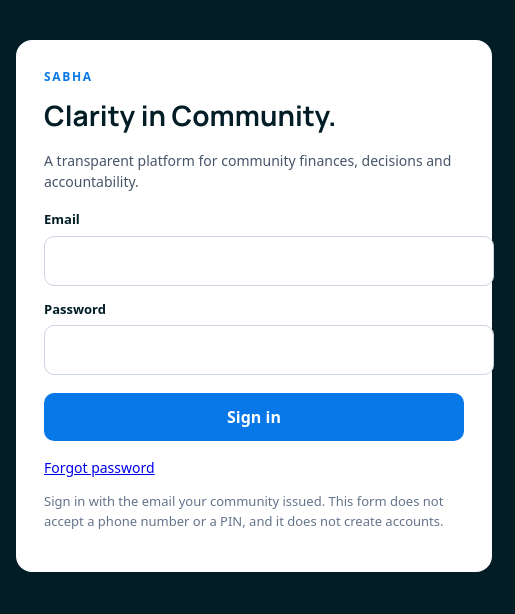
Test: a failed sign-in uses one message for a wrong password and a missing account
Type "asha@example.com" into the field labelled "Email" at {"x": 269, "y": 260}, box 44,236 -> 494,286
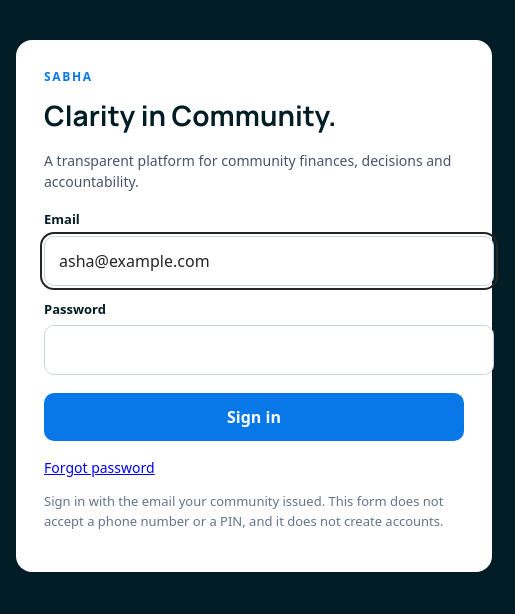
Type "long-enough" into the password field labelled "Password" at {"x": 269, "y": 350}, box 44,325 -> 494,375
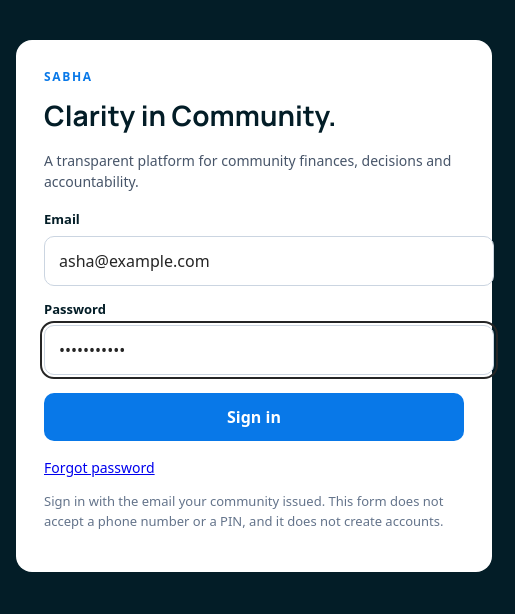
Click the button "Sign in" at {"x": 254, "y": 417}, box 44,393 -> 464,441
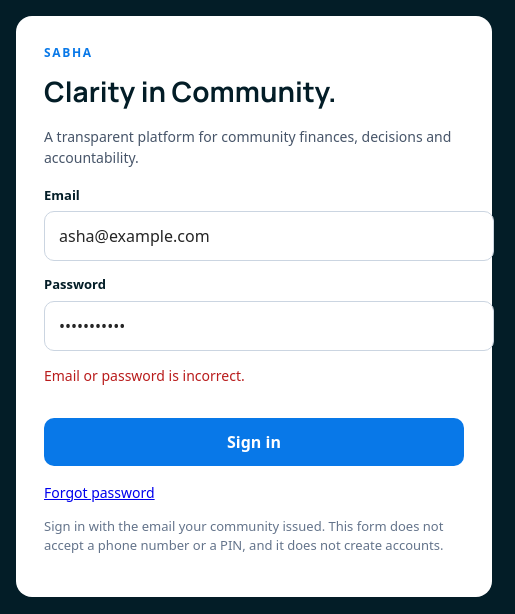
Now the message reads "Email or password is incorrect.", box 44,366 -> 245,384
